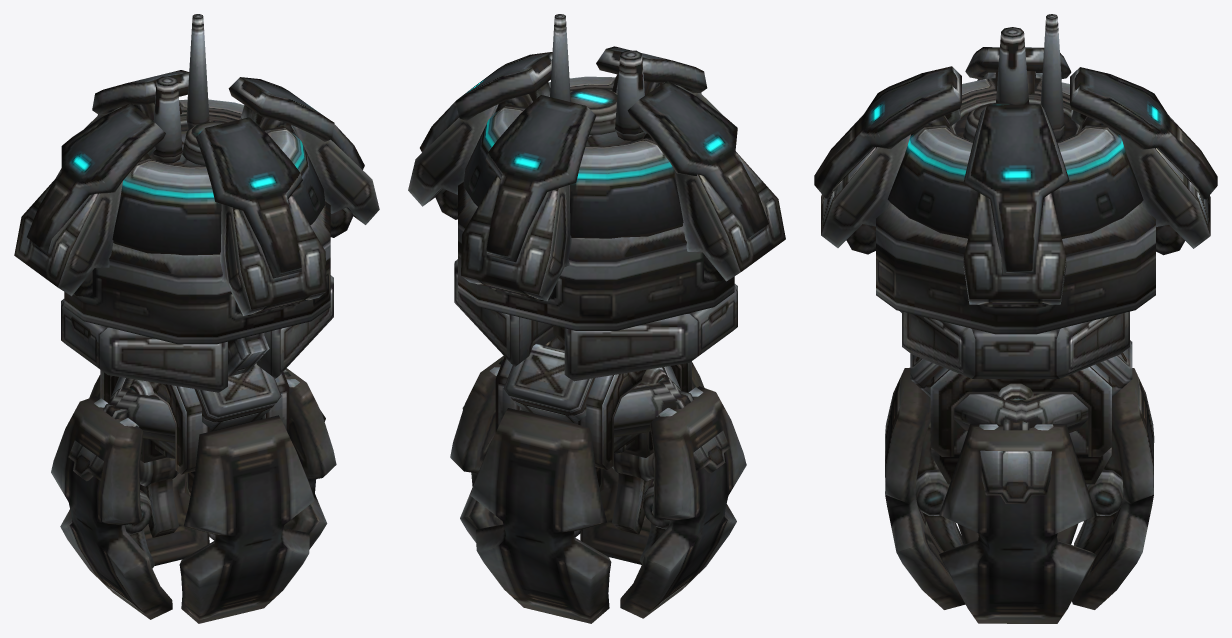
Rendered from Sabotage_Drone_MP.glb.
The picture shows the model from 3 angles, left to right: view 1: azimuth 30°, elevation 25°; view 2: azimuth 150°, elevation 25°; view 3: azimuth 270°, elevation 25°; orthographic projection. The views are drawn at different scales.
Visible parts, largest first — view 1: Mesh; view 2: Mesh; view 3: Mesh.
Boxes of the visible parts, box(x1,y1,x2,y2) form: Mesh: box(14, 14, 379, 623); Mesh: box(408, 14, 785, 623); Mesh: box(814, 14, 1217, 623).
Bounding box in the file's own units: 1.12 × 1.82 × 1.14.
1 material, 1 textured.
